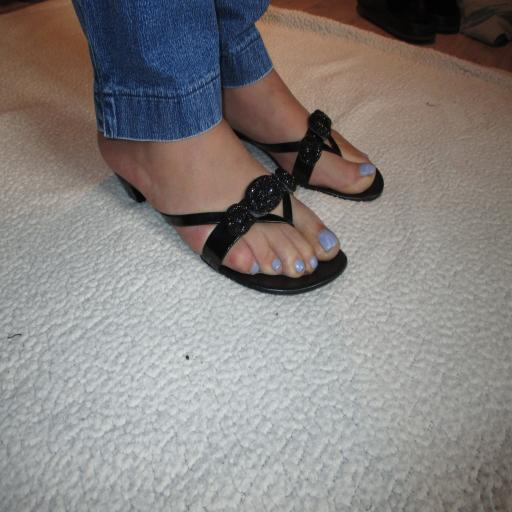flip-flop: (116, 167, 347, 295), (234, 110, 384, 201)
